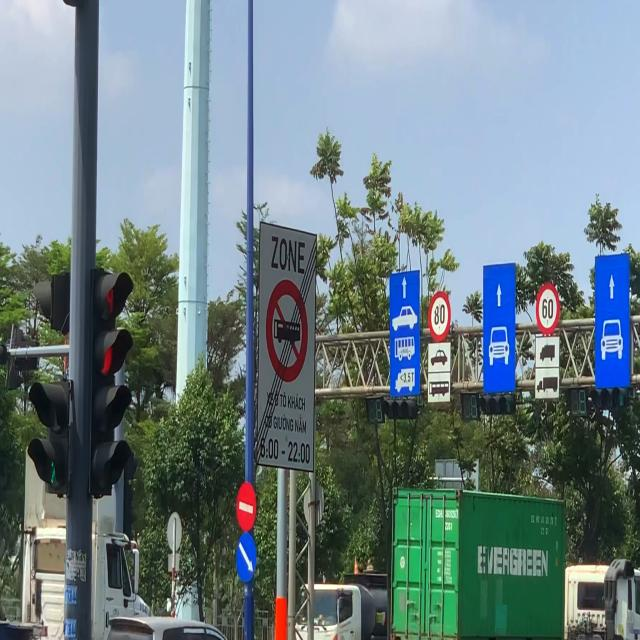Cam con lai: (265, 278, 309, 382)
Cam nguoc chieu: (236, 481, 257, 532)
Hieu lenh: (235, 530, 258, 584)
Toc do toi da: (535, 281, 560, 336), (428, 291, 452, 343)
